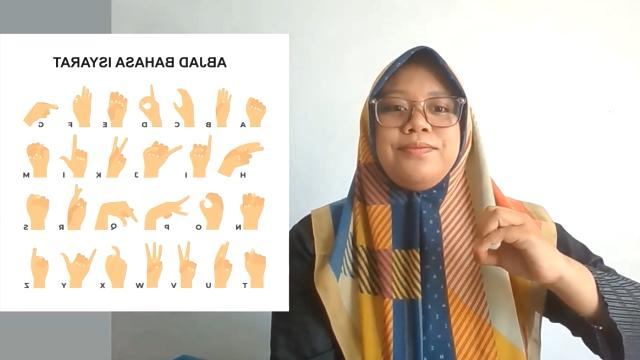O: (470, 202, 558, 286)
